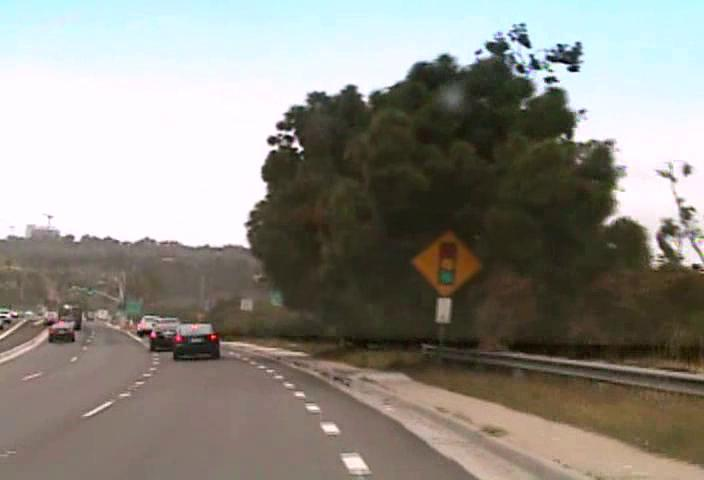signalAhead: (410, 228, 483, 297)
